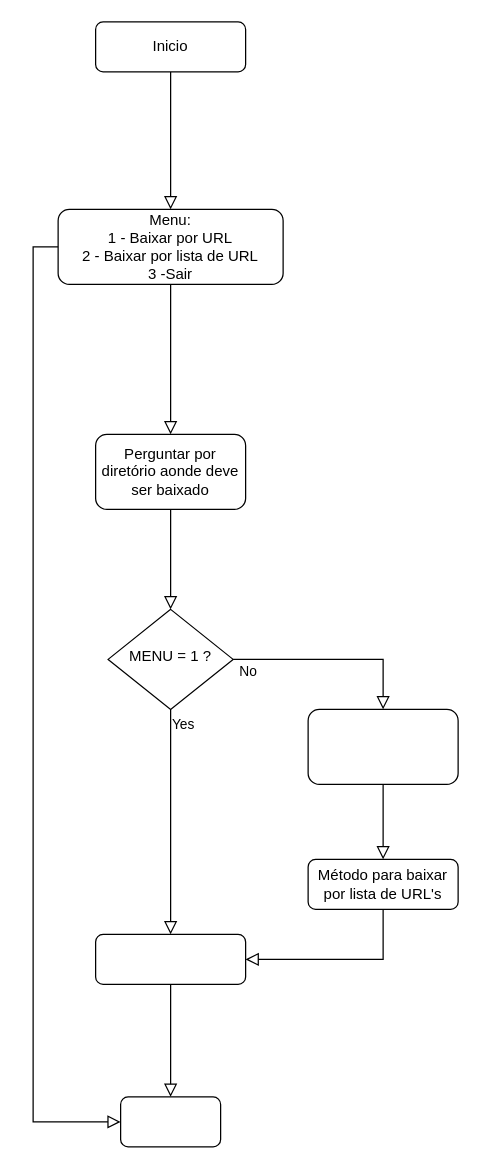
Image size: 480x1169. Some labels were removed from this diagram. The centre of each missing label's shape, as x and y in pixels:
Fim: the point at 170,1121
Método para baixar por URL: the point at 170,958
Perguntar por diretório que contém a lista de URL's: the point at 382,746
